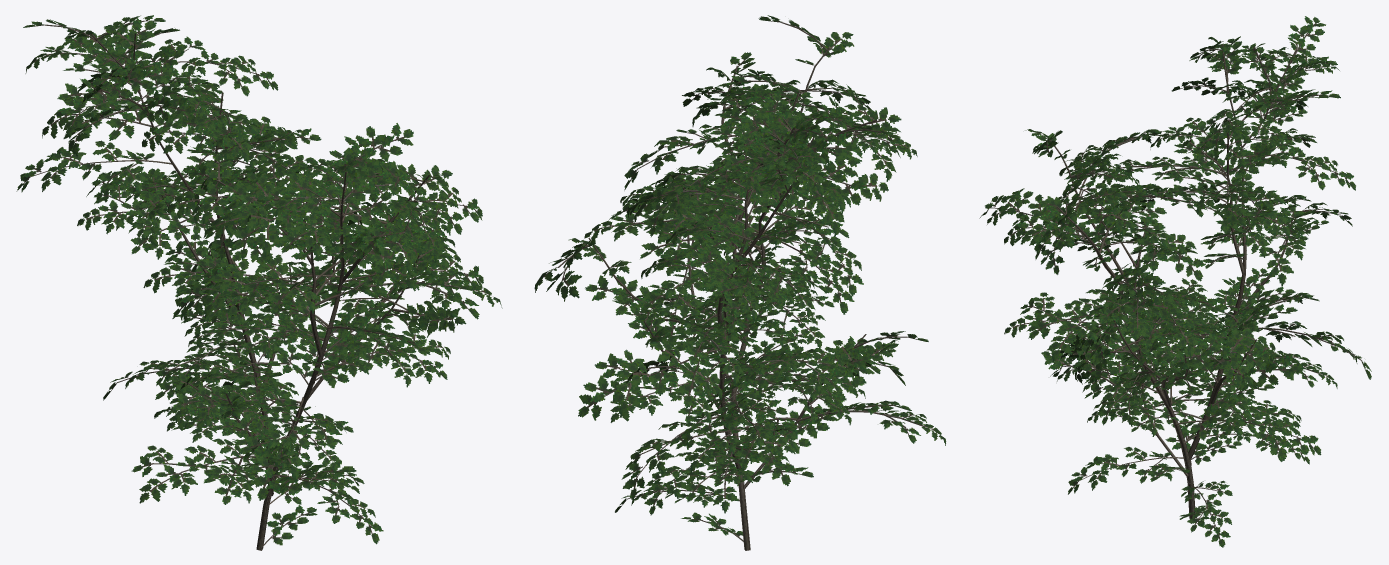
Rendered from Bush1-5.fbx.
3 renders of one model, left to right at view 1: azimuth 30°, elevation 25°; view 2: azimuth 150°, elevation 25°; view 3: azimuth 270°, elevation 25°, orthographic. The views are drawn at different scales.
Visible parts, largest first — view 1: Bush1-5_LOD0; view 2: Bush1-5_LOD0; view 3: Bush1-5_LOD0.
Part boxes in pixels (x1,y1,x2,y2): Bush1-5_LOD0: (16, 15, 502, 550); Bush1-5_LOD0: (534, 15, 946, 550); Bush1-5_LOD0: (979, 16, 1371, 547).
Size of what is drawn, in the model's own units: 2.26 by 2.46 by 3.03.
